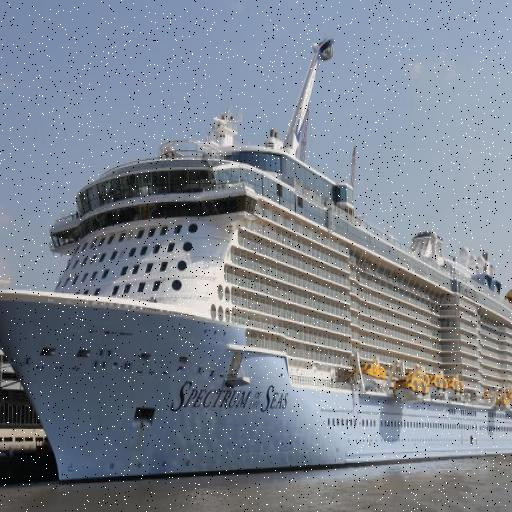cruises: (1, 105, 512, 487)
